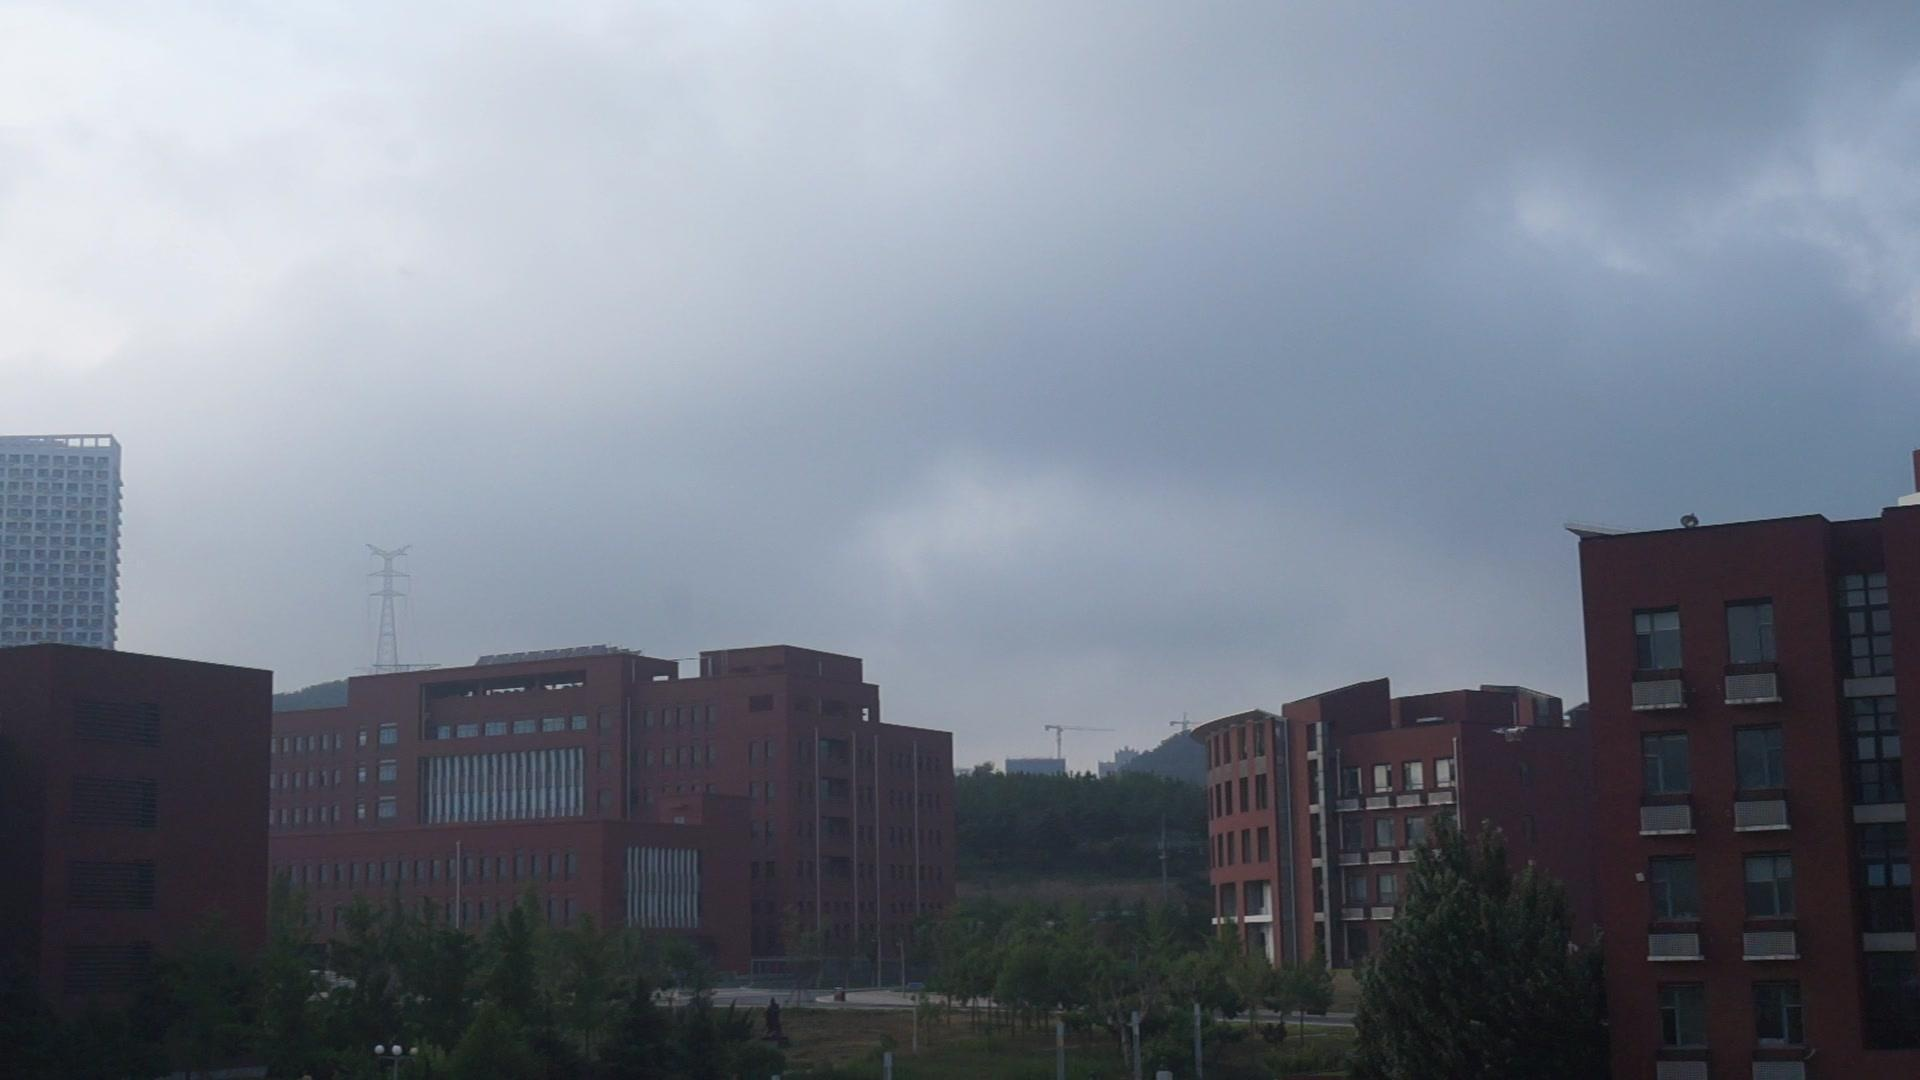UAV: (1491, 727, 1530, 742)
